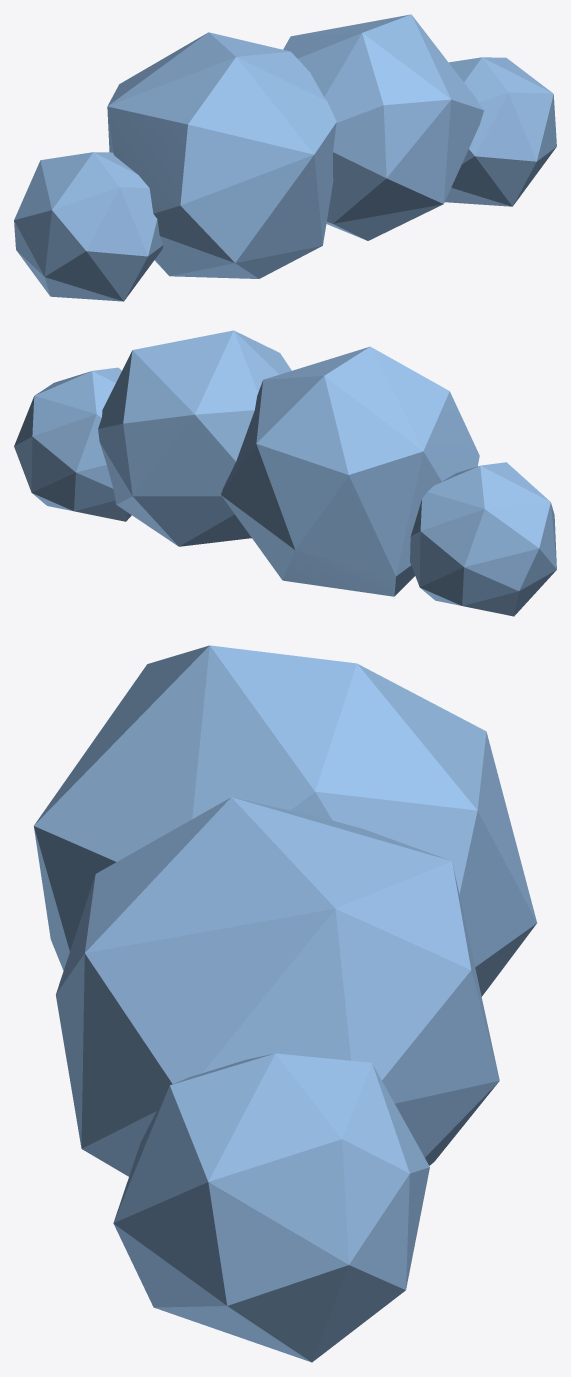
File: cloud_2.fbx
3 views of the same model, one above another, from view 1: azimuth 30°, elevation 25°; view 2: azimuth 150°, elevation 25°; view 3: azimuth 270°, elevation 25° (orthographic). The views are drawn at different scales.
Visible parts, largest first — view 1: cloud_2; view 2: cloud_2; view 3: cloud_2.
Part boxes in pixels (<box>): cloud_2: <box>14,14,556,301</box>; cloud_2: <box>14,330,556,616</box>; cloud_2: <box>33,645,536,1362</box>.
Bounding box in the file's own units: 782 × 330 × 328.
